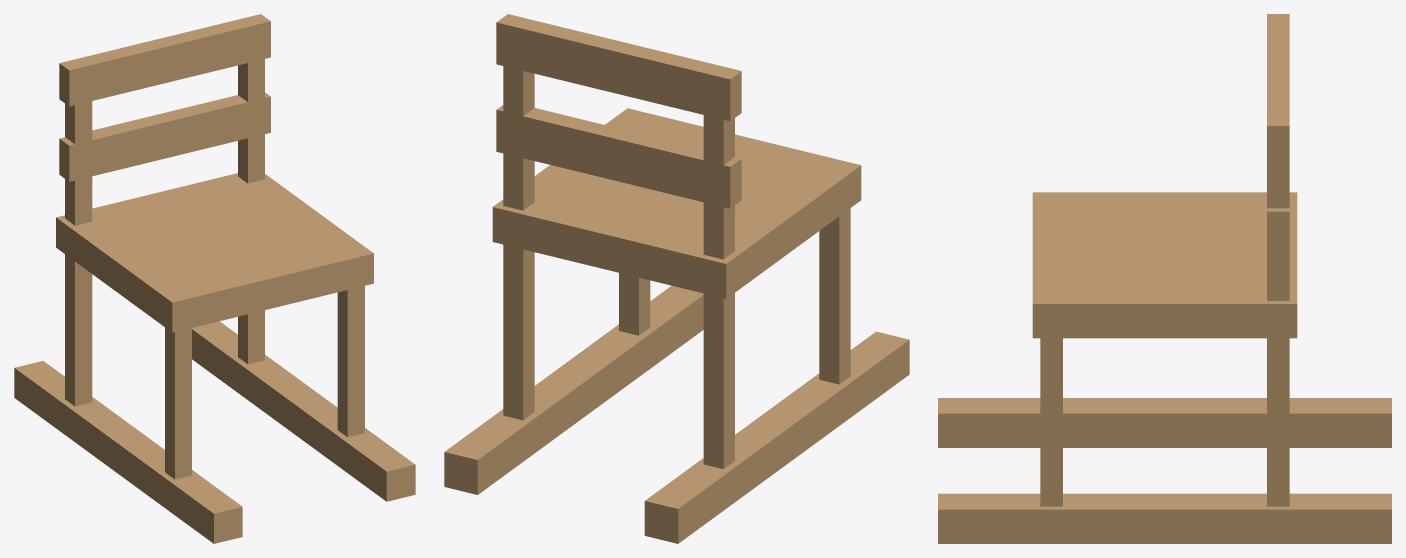
File: cozy-farm-and-homestead-rocking-chair-a8c794bc__19422.glb
3 renders of one model, left to right at view 1: azimuth 30°, elevation 25°; view 2: azimuth 150°, elevation 25°; view 3: azimuth 270°, elevation 25°, orthographic. The views are drawn at different scales.
Parts seen in each view (by area): view 1: rocking-chair; view 2: rocking-chair; view 3: rocking-chair.
Boxes of the visible parts, box(x1,y1,x2,y2) form: rocking-chair: box(14, 14, 415, 543); rocking-chair: box(444, 14, 909, 543); rocking-chair: box(938, 14, 1391, 543).
Size of the model in its own units: 0.7 by 1.22 by 1.2.
